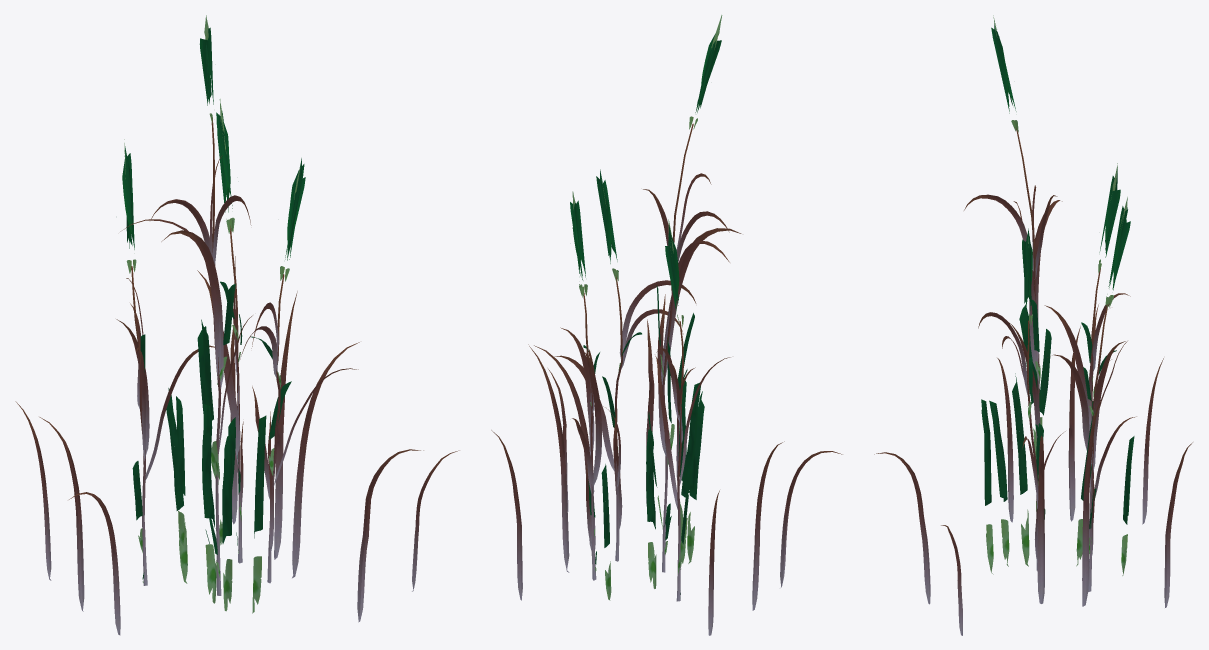
3 views of the same model, side by side, from view 1: azimuth 30°, elevation 25°; view 2: azimuth 150°, elevation 25°; view 3: azimuth 270°, elevation 25° (orthographic). The views are drawn at different scales.
Visible parts, largest first — view 1: SM_BM_Lily_01_LOD0; view 2: SM_BM_Lily_01_LOD0; view 3: SM_BM_Lily_01_LOD0.
Part boxes in pixels (x1,y1,x2,y2): SM_BM_Lily_01_LOD0: (15,15,459,635); SM_BM_Lily_01_LOD0: (491,15,842,635); SM_BM_Lily_01_LOD0: (874,15,1192,635).
Size of the model in its own units: 0.7918 by 1.28 by 0.6867.
